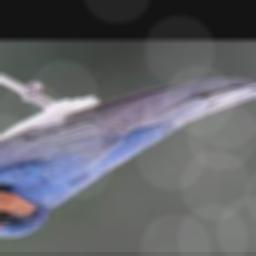Swallow: (0, 76, 256, 238)
